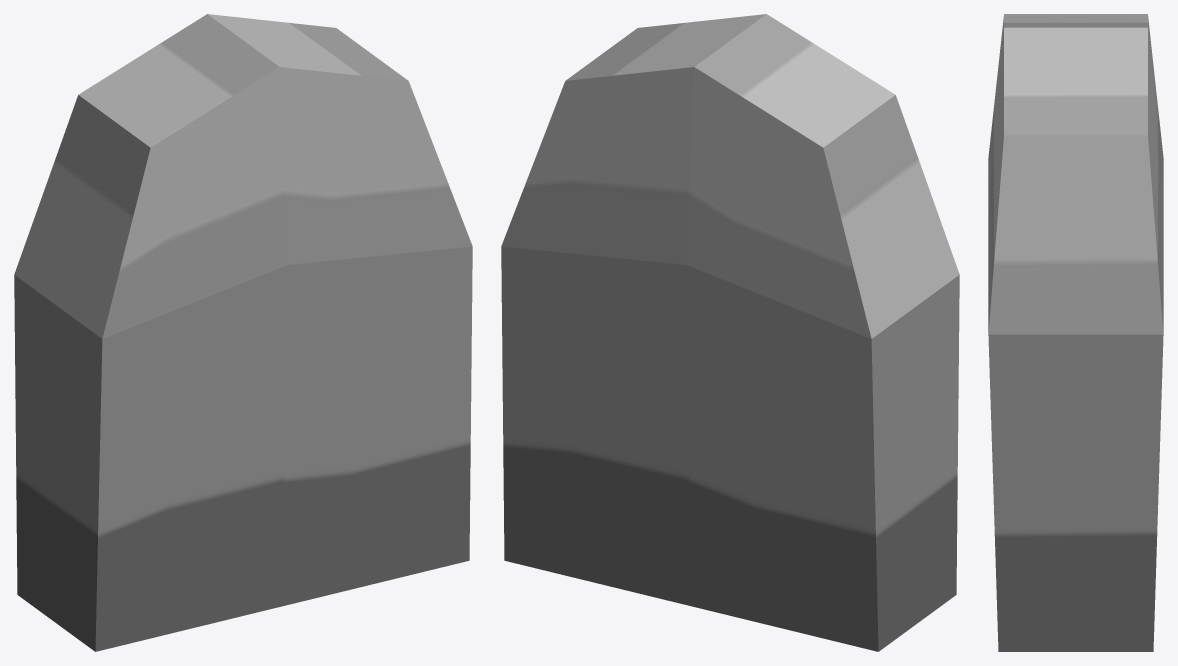
Rendered from Lapide.fbx.
3 renders of one model, left to right at view 1: azimuth 30°, elevation 25°; view 2: azimuth 150°, elevation 25°; view 3: azimuth 270°, elevation 25°, orthographic.
Visible parts, largest first — view 1: Lapide; view 2: Lapide; view 3: Lapide.
Boxes of the visible parts, x1,y1,x2,y2 form: Lapide: [14, 14, 472, 651]; Lapide: [501, 14, 959, 651]; Lapide: [988, 14, 1163, 651].
Bounding box in the file's own units: 79.56 × 109 × 32.46.
